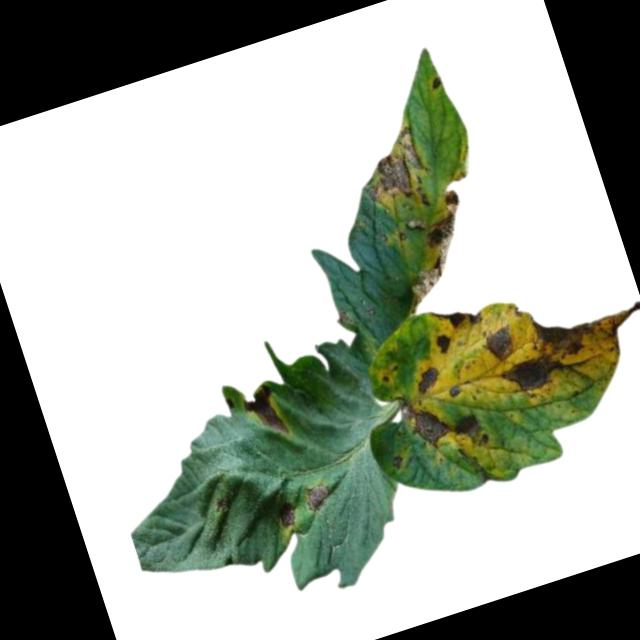Early_blight: (486, 284, 640, 401), (374, 186, 490, 315), (354, 124, 438, 222), (402, 386, 490, 465), (236, 378, 293, 448), (425, 295, 487, 337), (477, 321, 521, 365), (412, 361, 448, 398), (302, 482, 334, 514), (275, 500, 304, 534), (433, 331, 456, 358), (429, 74, 446, 96), (387, 454, 406, 473)
